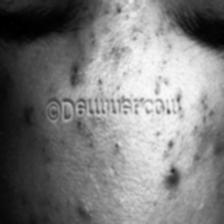Non-Cancerous Skin Condition: (23, 108, 34, 130), (167, 167, 178, 181)
